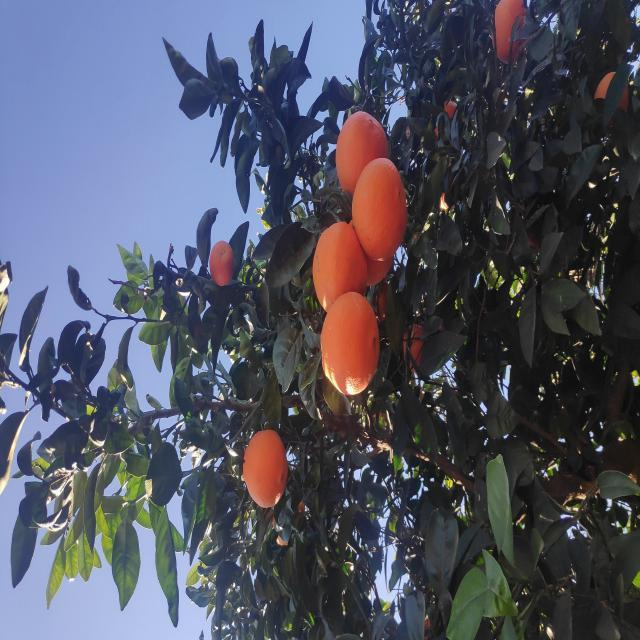Jeruk Sudah Matang: (246, 320, 346, 380), (386, 353, 483, 407), (329, 314, 417, 366), (446, 336, 531, 388), (135, 244, 209, 287), (575, 493, 640, 527), (530, 596, 570, 630), (354, 363, 394, 393), (355, 210, 398, 234), (308, 418, 322, 426)
